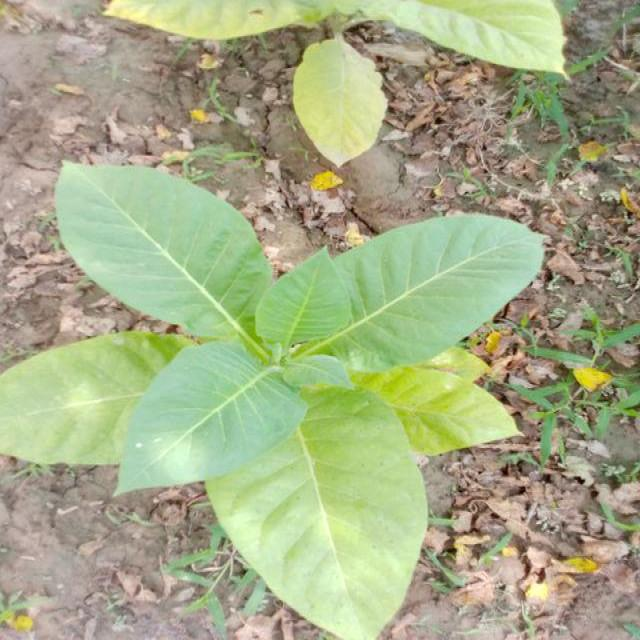crop: (11, 172, 535, 626), (104, 0, 565, 163)
